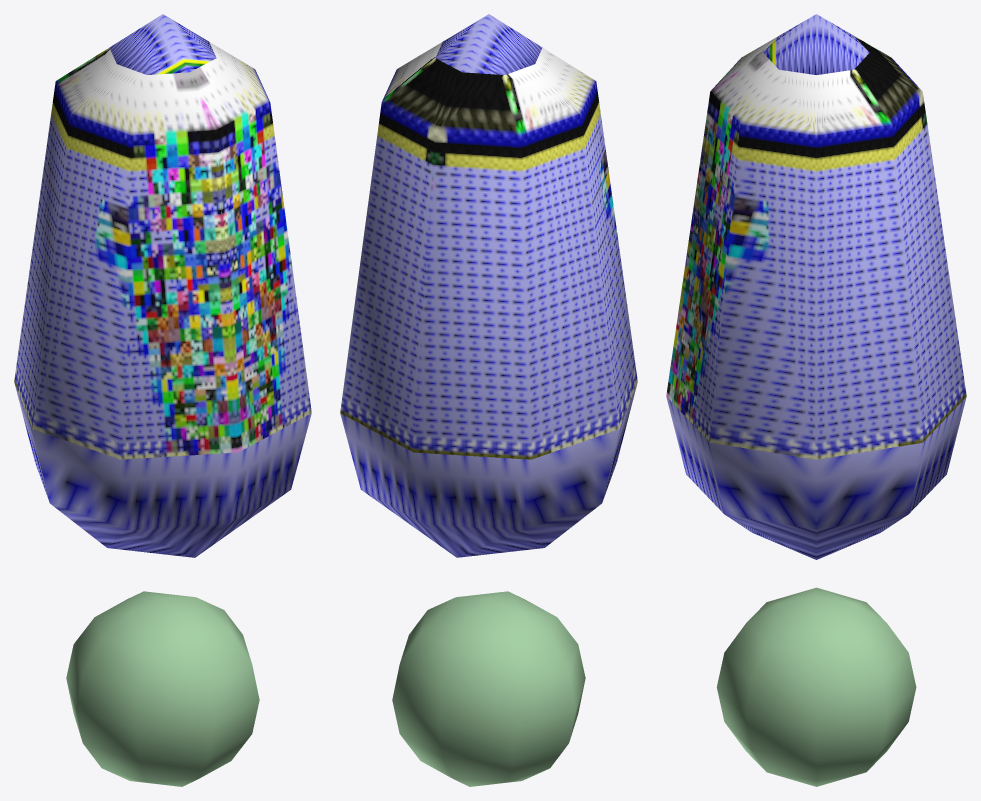
File: cloth_pirate_model.glb
The picture shows the model from 3 angles, left to right: view 1: azimuth 30°, elevation 25°; view 2: azimuth 150°, elevation 25°; view 3: azimuth 270°, elevation 25°; orthographic projection.
Parts seen in each view (by area): view 1: cloth_pirate_model; view 2: cloth_pirate_model; view 3: cloth_pirate_model.
Part boxes in pixels (x1=…): cloth_pirate_model: x1=14, y1=14, x2=311, y2=786; cloth_pirate_model: x1=340, y1=14, x2=637, y2=786; cloth_pirate_model: x1=666, y1=14, x2=966, y2=786.
Size of the model in its own units: 30.77 by 86.34 by 30.79.
1 material, 1 textured.
